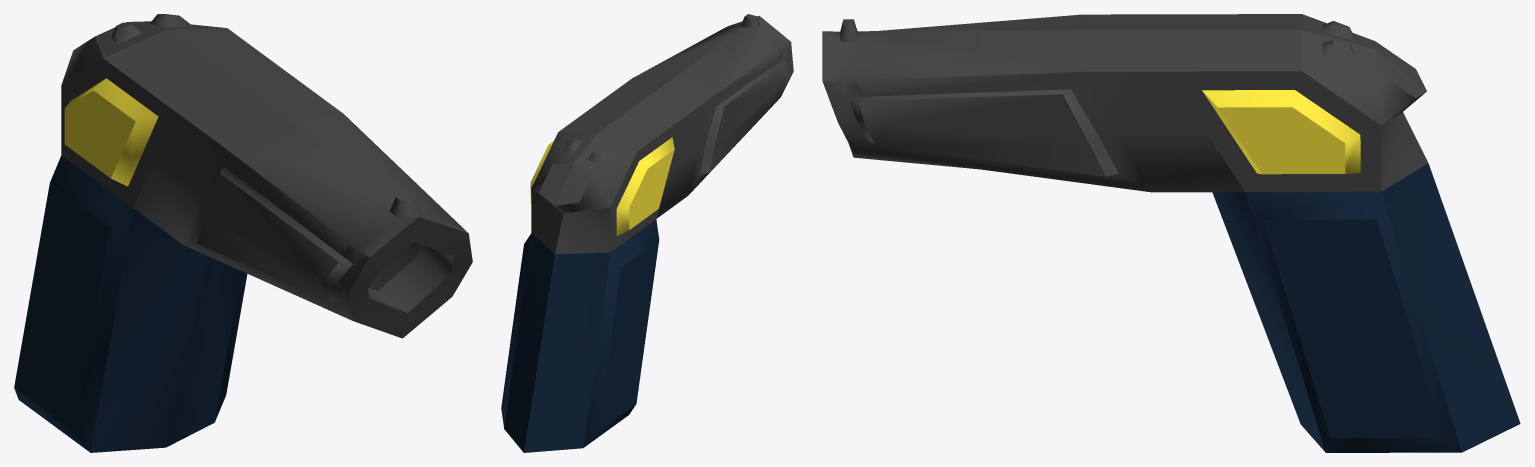
The model's file is PoliceGun.fbx.
3 views of the same model, side by side, from view 1: azimuth 30°, elevation 25°; view 2: azimuth 150°, elevation 25°; view 3: azimuth 270°, elevation 25° (orthographic). The views are drawn at different scales.
Visible parts, largest first — view 1: PoliceGun.003; view 2: PoliceGun.003; view 3: PoliceGun.003.
Part boxes in pixels (x1,y1,x2,y2): PoliceGun.003: (14, 14, 472, 452); PoliceGun.003: (501, 14, 793, 452); PoliceGun.003: (822, 14, 1520, 452).
Bounding box in the file's own units: 0.1835 × 0.4717 × 0.7423.
